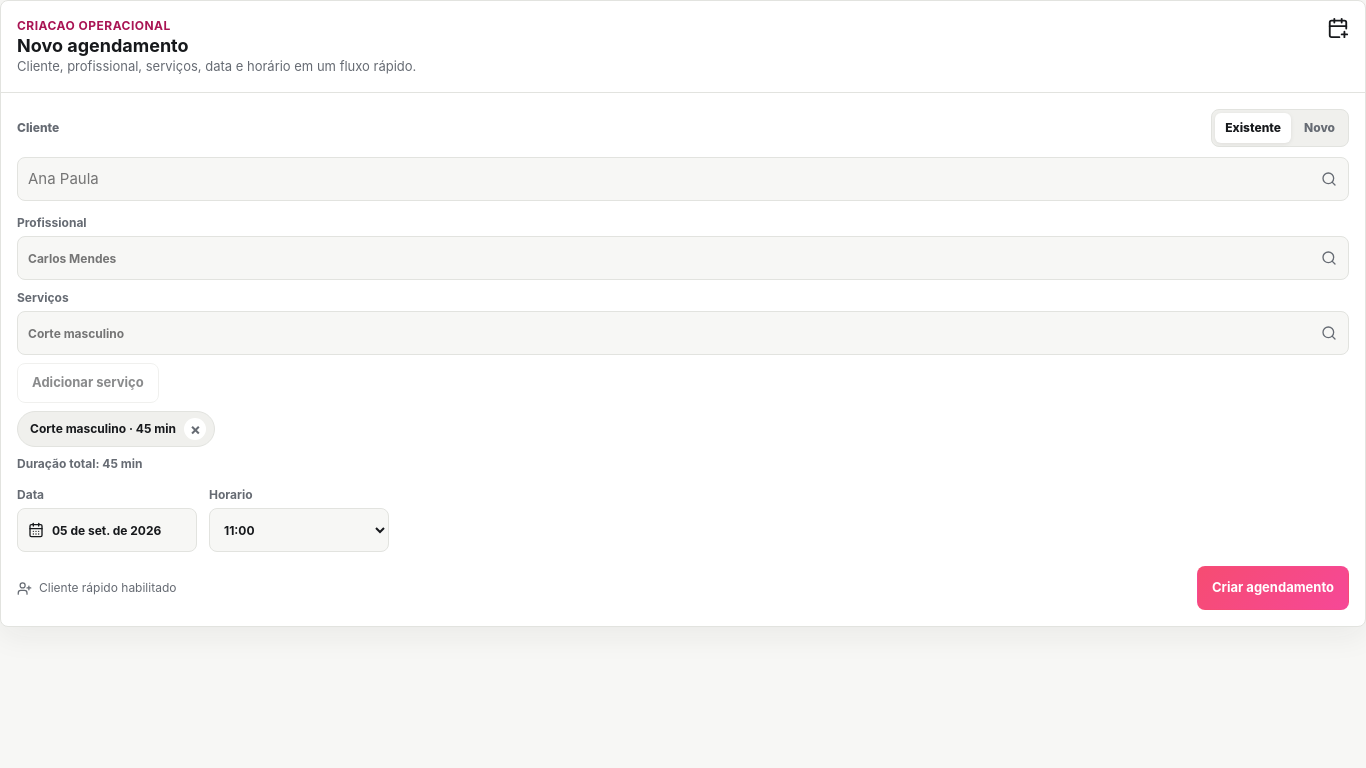
Test case: NewAppointmentFlow › opens a calendar picker and hides past time options for today
Click the button "05 de set. de 2026": click(107, 530) x1=17 y1=508 x2=197 y2=552
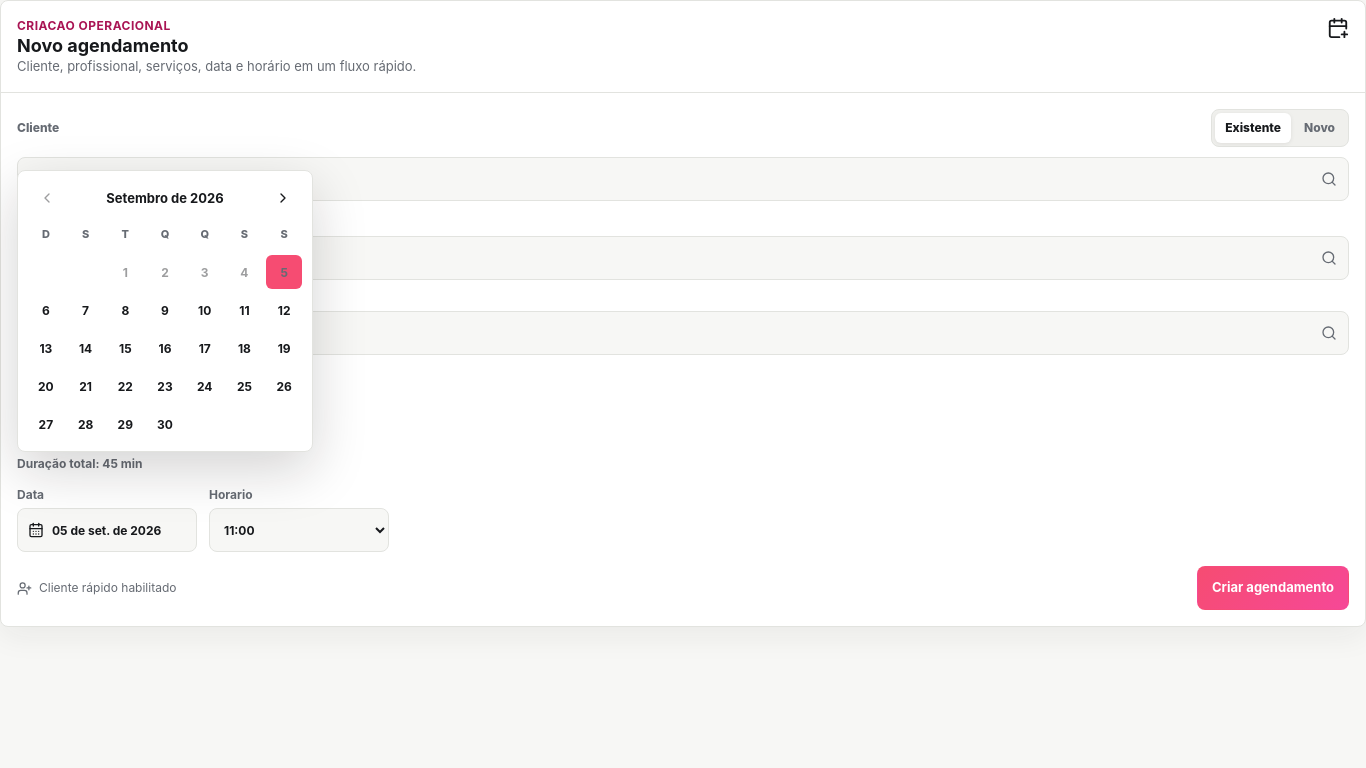
Check: the dialog shows "Setembro de 2026", box x1=106 y1=190 x2=224 y2=206
